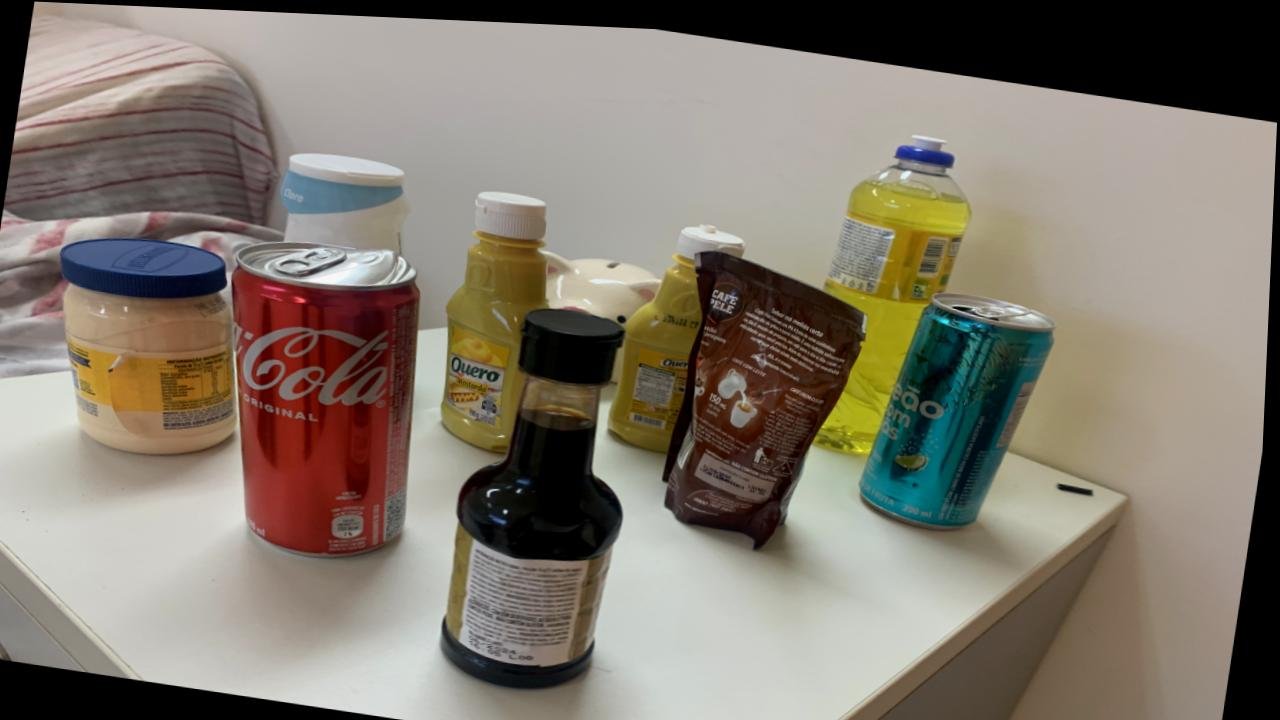Cleaner-Cleanup_Items: (281, 149, 413, 248)
Coffee-Pantry_Items: (666, 243, 869, 541)
Coke-Drinks: (234, 238, 423, 553)
Detergent-Cleanup_Items: (817, 128, 972, 445)
English_Sauce-Pantry_Items: (447, 303, 628, 682)
Mayonnaise-Pantry_Items: (62, 236, 241, 453)
Mustard-Pantry_Items: (612, 217, 747, 445), (444, 186, 551, 447)
Pig_Safe-Miscellaneous: (543, 244, 663, 317)
Tea-Drinks: (864, 283, 1057, 520)
